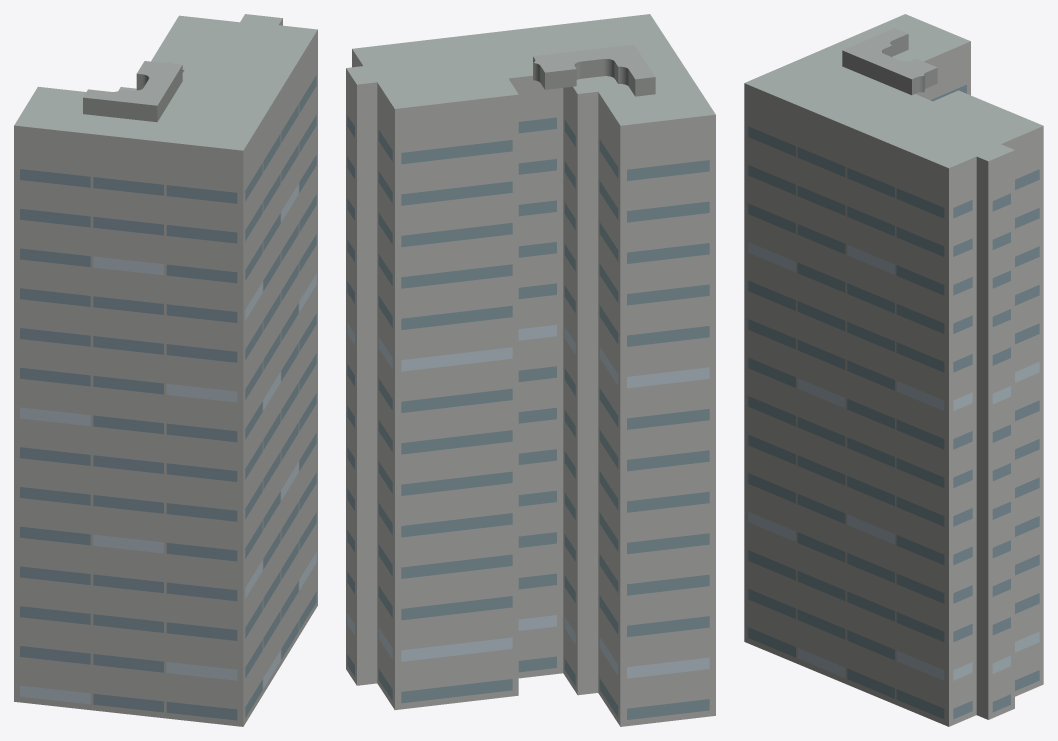
File: fallback-raemian-blesstige-211.glb
The picture shows the model from 3 angles, left to right: view 1: azimuth 30°, elevation 25°; view 2: azimuth 150°, elevation 25°; view 3: azimuth 270°, elevation 25°; orthographic projection. The views are drawn at different scales.
Visible parts, largest first — view 1: fallback-raemian-blesstige-211; view 2: fallback-raemian-blesstige-211; view 3: fallback-raemian-blesstige-211.
Part boxes in pixels (bbox=[...]): fallback-raemian-blesstige-211: bbox=[14, 14, 317, 726]; fallback-raemian-blesstige-211: bbox=[346, 14, 715, 726]; fallback-raemian-blesstige-211: bbox=[744, 14, 1043, 726].
Size of the model in its own units: 49.53 by 86 by 40.63.
